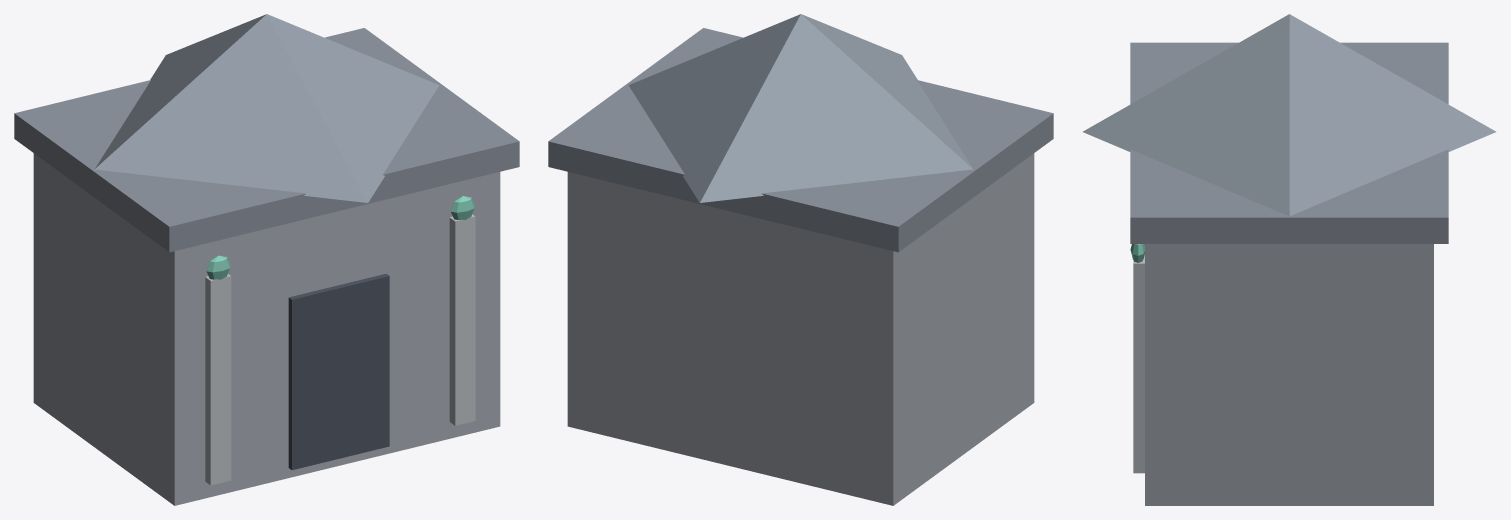
Rendered from mausoleo.glb.
The picture shows the model from 3 angles, left to right: view 1: azimuth 30°, elevation 25°; view 2: azimuth 150°, elevation 25°; view 3: azimuth 270°, elevation 25°; orthographic projection. The views are drawn at different scales.
Parts seen in each view (by area): view 1: mausoleo; view 2: mausoleo; view 3: mausoleo.
Part boxes in pixels (box(x1,y1,x2,y2)): mausoleo: box(14, 14, 519, 505); mausoleo: box(548, 14, 1053, 505); mausoleo: box(1082, 14, 1496, 505).
Size of the model in its own units: 4.3 by 4.7 by 4.3.
